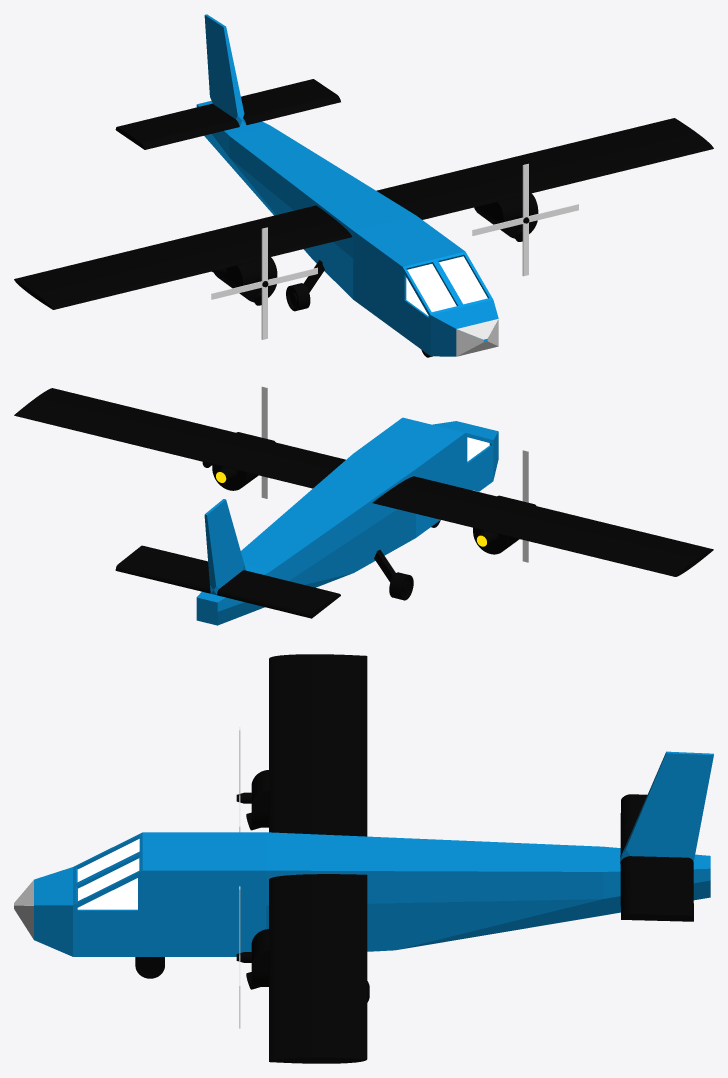
The picture shows the model from 3 angles, top to bottom: view 1: azimuth 30°, elevation 25°; view 2: azimuth 150°, elevation 25°; view 3: azimuth 270°, elevation 25°; orthographic projection. The views are drawn at different scales.
Visible parts, largest first — view 1: Cube, Cube.001, Cylinder.003, Cube.002; view 2: Cube, Cube.001, Cylinder.003, Cube.002; view 3: Cube, Cube.001, Cylinder.003.
Part boxes in pixels (x1,y1,x2,y2): Cube: (115,14,498,356); Cube.001: (14,118,713,309); Cylinder.003: (211,163,578,339); Cube.002: (286,260,324,311); Cube: (115,417,498,625); Cube.001: (14,388,713,576); Cylinder.003: (202,386,578,562); Cube.002: (374,549,413,600); Cube: (14,751,713,956); Cube.001: (269,654,367,1063); Cylinder.003: (236,727,269,1028).
Bounding box in the file's own units: 15.44 × 3.97 × 11.32.
